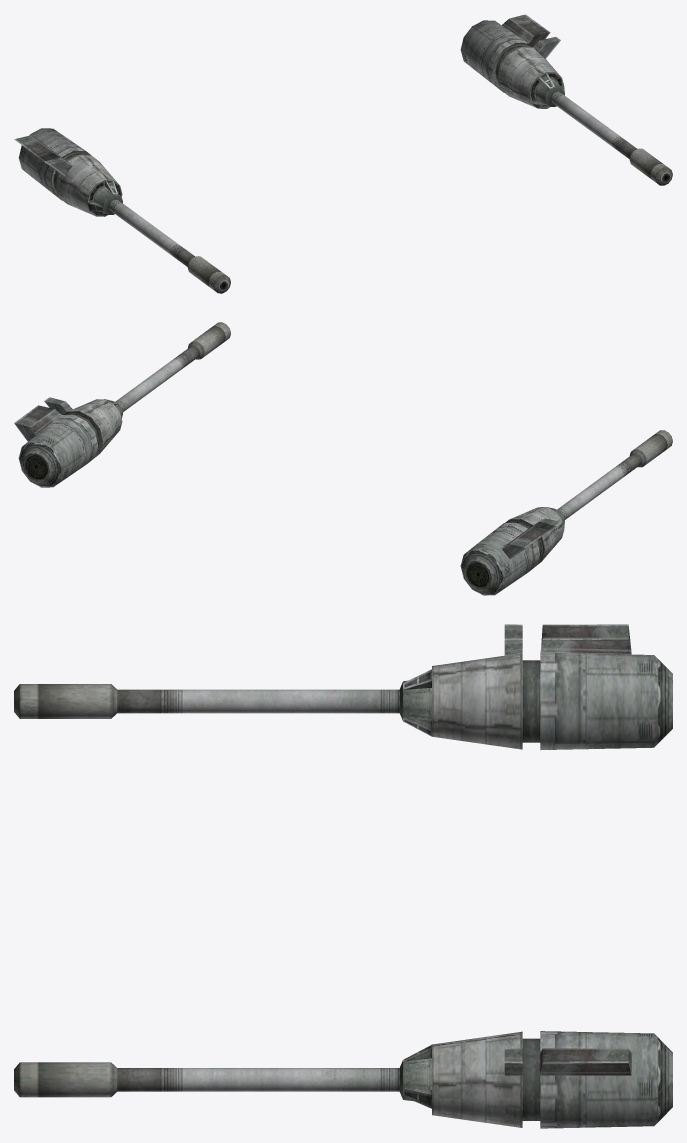
The model's file is black_sun_fighter_heavy_weapon1_s05_l0.fbx.
3 renders of one model, top to bottom at view 1: azimuth 30°, elevation 25°; view 2: azimuth 150°, elevation 25°; view 3: azimuth 270°, elevation 25°, orthographic. The views are drawn at different scales.
Visible parts, largest first — view 1: mesh_node; view 2: mesh_node; view 3: mesh_node.
Boxes of the visible parts, x1=… form: mesh_node: x1=14, y1=14, x2=672, y2=293; mesh_node: x1=14, y1=322, x2=672, y2=595; mesh_node: x1=14, y1=624, x2=672, y2=1128.
Bounding box in the file's own units: 13.87 × 1.35 × 8.8.
1 material, 1 textured.
